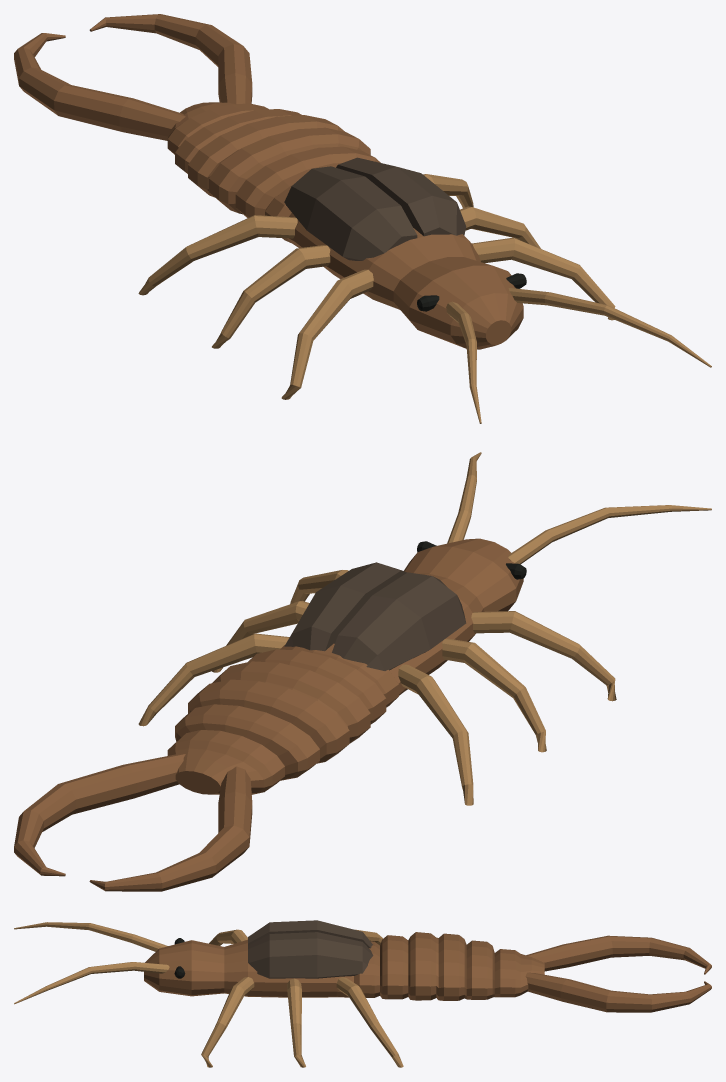
The picture shows the model from 3 angles, top to bottom: view 1: azimuth 30°, elevation 25°; view 2: azimuth 150°, elevation 25°; view 3: azimuth 270°, elevation 25°; orthographic projection. The views are drawn at different scales.
Parts seen in each view (by area): view 1: WholeLowHeadThoraxAndLongExposedAbdomen, WholeShortSplitWingCover0, WholeCurvedTerminalForceps0, WholeCurvedTerminalForceps1, WholeShortSplitWingCover1, WholeAngledWalkingLegAndFiniteToe0_2, WholeAngledWalkingLegAndFiniteToe1_0, WholeAngledWalkingLegAndFiniteToe0_0, WholeAngledWalkingLegAndFiniteToe0_1, WholeLongTaperedAntenna1, WholeAngledWalkingLegAndFiniteToe1_1, WholeLongTaperedAntenna0 (+1 smaller); view 2: WholeLowHeadThoraxAndLongExposedAbdomen, WholeShortSplitWingCover0, WholeCurvedTerminalForceps1, WholeCurvedTerminalForceps0, WholeShortSplitWingCover1, WholeAngledWalkingLegAndFiniteToe0_0, WholeAngledWalkingLegAndFiniteToe1_2, WholeAngledWalkingLegAndFiniteToe0_2, WholeAngledWalkingLegAndFiniteToe0_1, WholeLongTaperedAntenna0, WholeAngledWalkingLegAndFiniteToe1_1, WholeLongTaperedAntenna1 (+1 smaller); view 3: WholeLowHeadThoraxAndLongExposedAbdomen, WholeShortSplitWingCover1, WholeCurvedTerminalForceps1, WholeCurvedTerminalForceps0, WholeShortSplitWingCover0, WholeAngledWalkingLegAndFiniteToe1_2, WholeAngledWalkingLegAndFiniteToe1_0, WholeLongTaperedAntenna1, WholeLongTaperedAntenna0, WholeAngledWalkingLegAndFiniteToe1_1, WholeAngledWalkingLegAndFiniteToe0_0.
Part boxes in pixels (bbox=[...]): WholeLowHeadThoraxAndLongExposedAbdomen: bbox=[167, 102, 523, 349]; WholeShortSplitWingCover0: bbox=[284, 166, 417, 260]; WholeCurvedTerminalForceps0: bbox=[14, 33, 185, 140]; WholeCurvedTerminalForceps1: bbox=[89, 14, 252, 103]; WholeShortSplitWingCover1: bbox=[336, 157, 466, 236]; WholeAngledWalkingLegAndFiniteToe0_2: bbox=[138, 215, 297, 295]; WholeAngledWalkingLegAndFiniteToe1_0: bbox=[472, 237, 615, 320]; WholeAngledWalkingLegAndFiniteToe0_0: bbox=[281, 269, 373, 399]; WholeAngledWalkingLegAndFiniteToe0_1: bbox=[212, 245, 330, 348]; WholeLongTaperedAntenna1: bbox=[508, 288, 711, 367]; WholeAngledWalkingLegAndFiniteToe1_1: bbox=[460, 206, 540, 248]; WholeLongTaperedAntenna0: bbox=[446, 301, 481, 423]; WholeLowHeadThoraxAndLongExposedAbdomen: bbox=[167, 538, 523, 794]; WholeShortSplitWingCover0: bbox=[332, 572, 466, 670]; WholeCurvedTerminalForceps1: bbox=[14, 753, 185, 876]; WholeCurvedTerminalForceps0: bbox=[89, 766, 252, 891]; WholeShortSplitWingCover1: bbox=[284, 562, 406, 651]; WholeAngledWalkingLegAndFiniteToe0_0: bbox=[471, 611, 616, 701]; WholeAngledWalkingLegAndFiniteToe1_2: bbox=[138, 633, 289, 726]; WholeAngledWalkingLegAndFiniteToe0_2: bbox=[398, 664, 473, 805]; WholeAngledWalkingLegAndFiniteToe0_1: bbox=[442, 638, 546, 752]; WholeLongTaperedAntenna0: bbox=[508, 505, 711, 564]; WholeAngledWalkingLegAndFiniteToe1_1: bbox=[212, 601, 309, 672]; WholeLongTaperedAntenna1: bbox=[447, 452, 481, 543]; WholeLowHeadThoraxAndLongExposedAbdomen: bbox=[144, 932, 544, 1000]; WholeShortSplitWingCover1: bbox=[248, 932, 373, 978]; WholeCurvedTerminalForceps1: bbox=[525, 972, 711, 1012]; WholeCurvedTerminalForceps0: bbox=[526, 935, 711, 974]; WholeShortSplitWingCover0: bbox=[248, 920, 372, 948]; WholeAngledWalkingLegAndFiniteToe1_2: bbox=[336, 977, 403, 1067]; WholeAngledWalkingLegAndFiniteToe1_0: bbox=[201, 977, 254, 1067]; WholeLongTaperedAntenna1: bbox=[14, 962, 169, 1004]; WholeLongTaperedAntenna0: bbox=[14, 922, 167, 951]; WholeAngledWalkingLegAndFiniteToe1_1: bbox=[287, 978, 305, 1067]; WholeAngledWalkingLegAndFiniteToe0_0: bbox=[209, 929, 247, 945].
Bounding box in the file's own units: 1.19 × 0.428 × 3.22.
